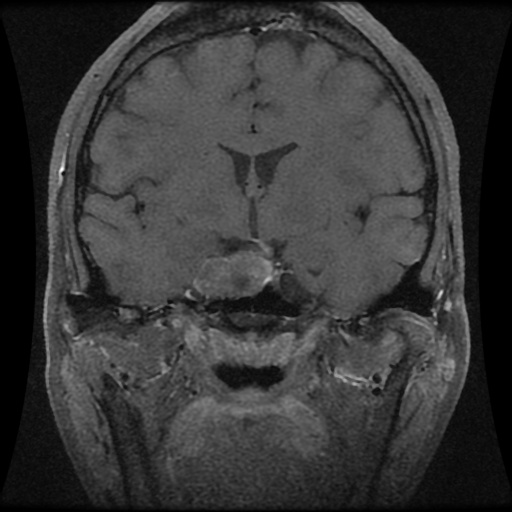pituitary: (194, 252, 276, 299)
